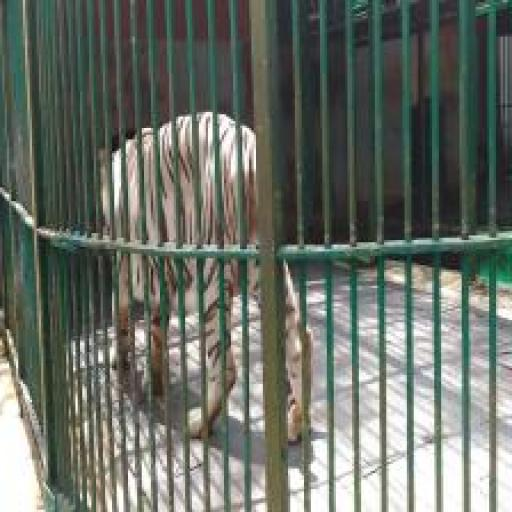Tiger: (203, 258, 222, 428), (284, 265, 302, 443), (218, 114, 239, 244), (197, 112, 217, 245), (177, 116, 196, 244), (148, 256, 164, 393), (224, 260, 240, 392), (159, 123, 176, 243), (242, 126, 258, 245), (142, 128, 158, 244), (126, 139, 141, 242), (117, 252, 130, 361), (112, 149, 124, 240), (164, 258, 178, 321), (100, 149, 110, 236), (183, 258, 198, 313), (131, 254, 143, 300), (247, 260, 260, 301), (189, 408, 202, 437), (307, 331, 312, 397)
